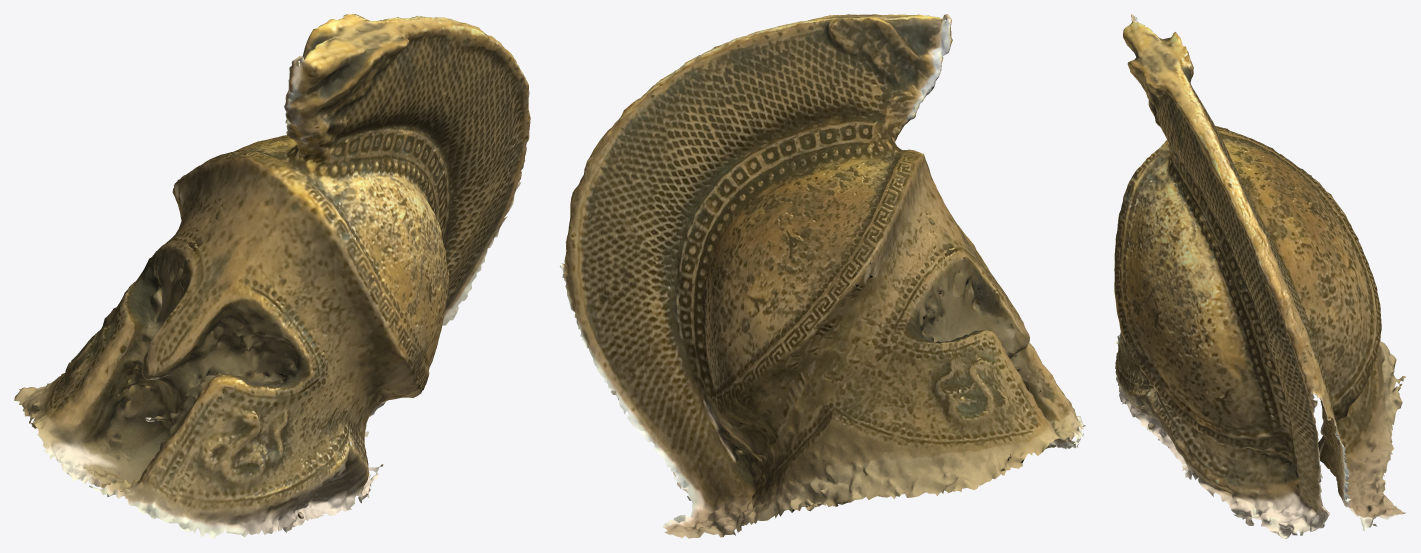
File: spartan_bronze_helmet.glb
3 views of the same model, side by side, from view 1: azimuth 30°, elevation 25°; view 2: azimuth 150°, elevation 25°; view 3: azimuth 270°, elevation 25° (orthographic). The views are drawn at different scales.
Visible parts, largest first — view 1: Solid; view 2: Solid; view 3: Solid.
Boxes of the visible parts, left/top/right/bottom form: Solid: left=14, top=14, right=530, bottom=538; Solid: left=559, top=14, right=1085, bottom=538; Solid: left=1114, top=14, right=1405, bottom=538.
Bounding box in the file's own units: 2.65 × 2.6 × 1.48.
1 material, 1 textured.
